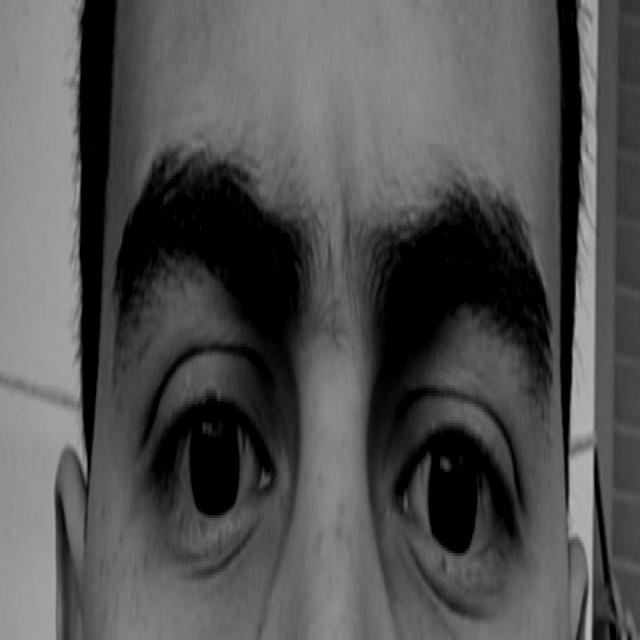real: (132, 223, 542, 620)
